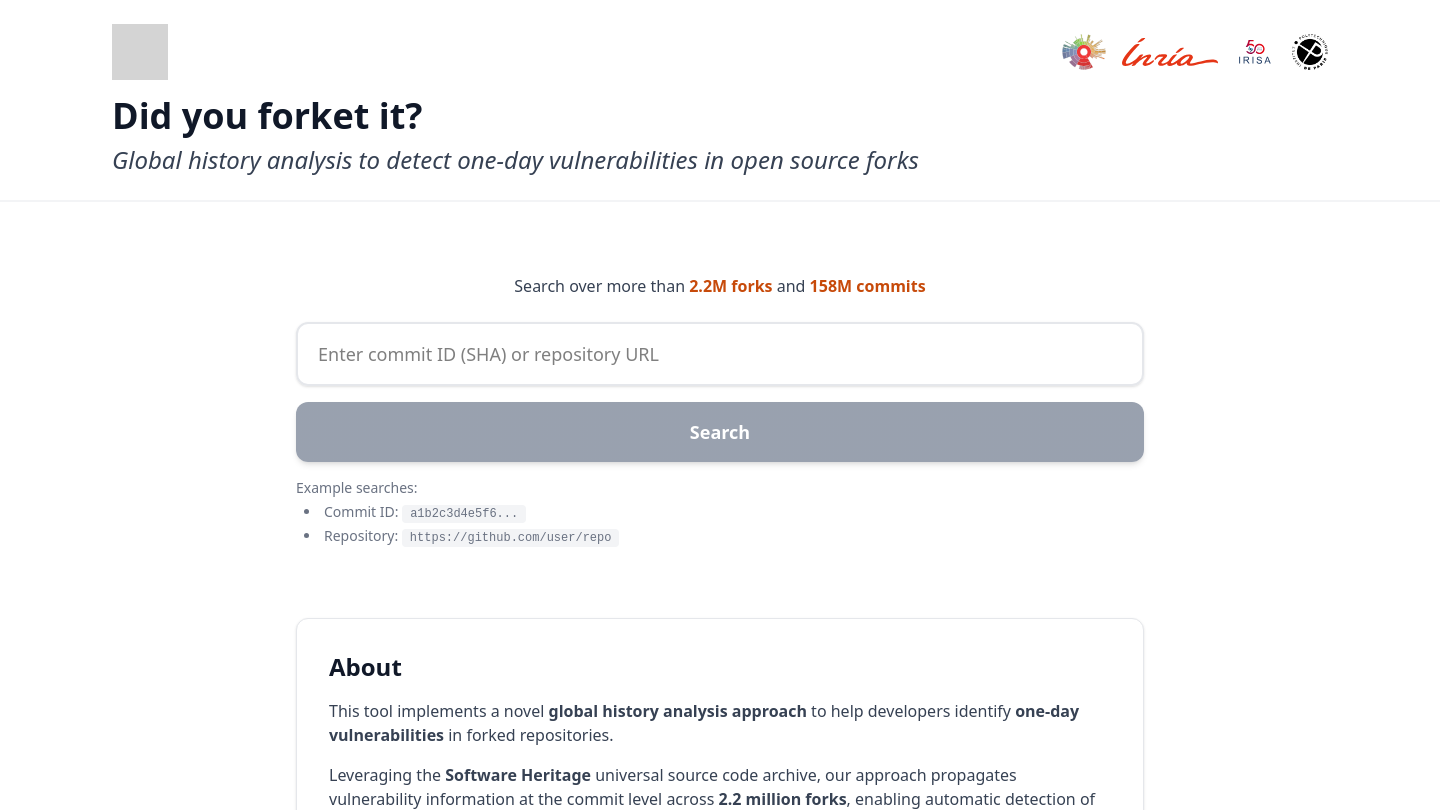
Test: App - Consecutive Search Tests › should maintain search input value between searches
This screenshot has width=1440, height=810.
Perform search
Type "aaaaaaaaaaaaaaaaaaaaaaaaaaaaaaaaaaaaaaaa" into the field named "search by commit id or repository url".
click(720, 354); type("aaaaaaaaaaaaaaaaaaaaaaaaaaaaaaaaaaaaaaaa")  # box [296, 322, 1144, 386]
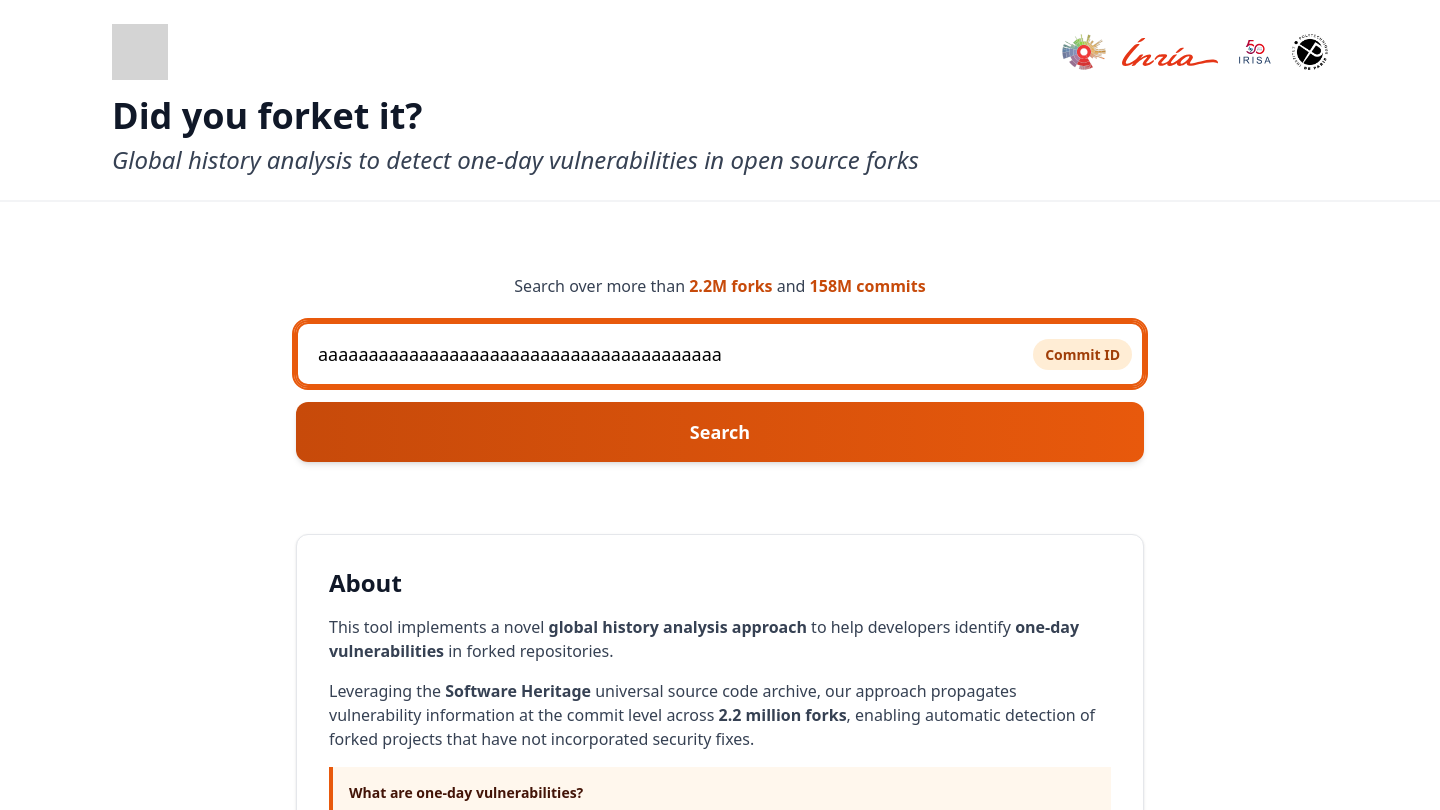
Click the button with aria-label "execute vulnerability search".
click(720, 432)  # box [296, 402, 1144, 462]
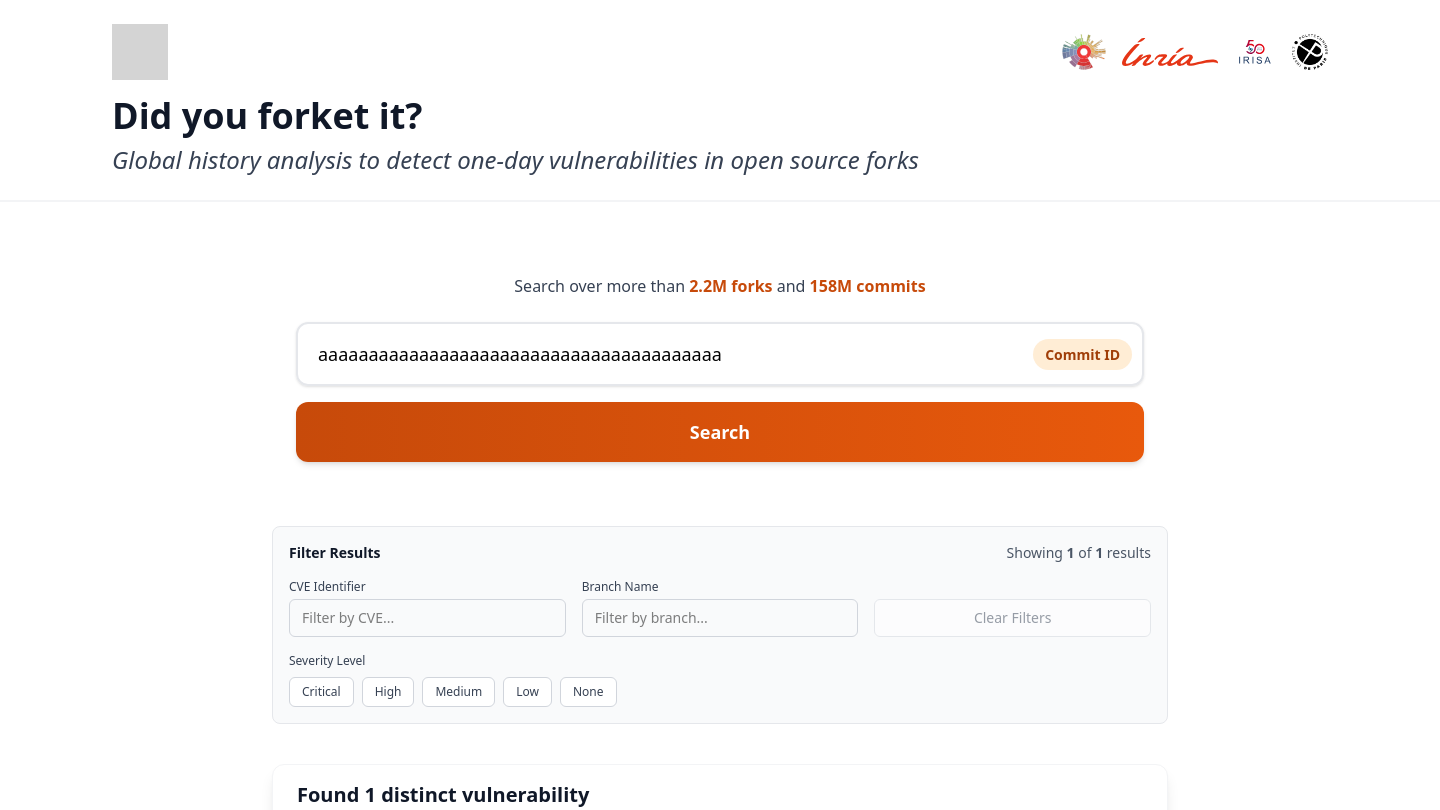
expect the heading "Found 1 distinct vulnerability" is shown: met, box [297, 781, 589, 809]
